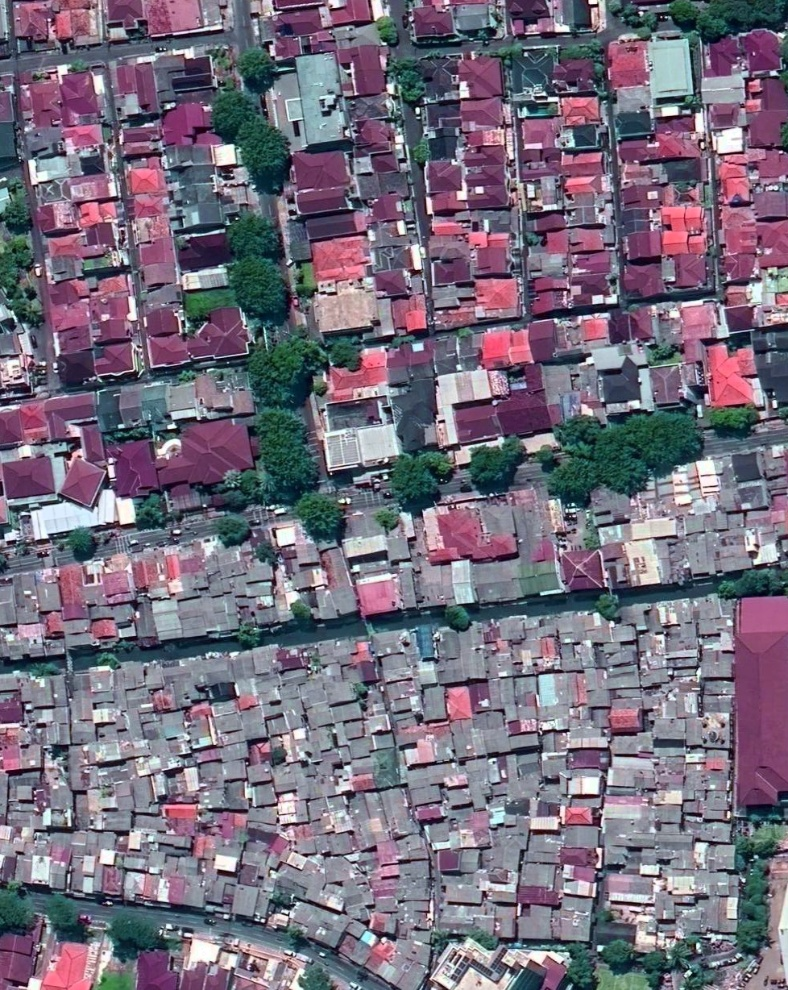building: (555, 440, 788, 606), (596, 503, 758, 592), (415, 208, 519, 331), (736, 597, 788, 807), (638, 601, 733, 694), (616, 158, 709, 244), (152, 416, 258, 490), (332, 918, 436, 990), (179, 934, 311, 990), (431, 938, 573, 990), (510, 485, 572, 595), (26, 485, 136, 541), (271, 845, 356, 912), (426, 503, 519, 564), (434, 367, 505, 445), (294, 52, 350, 148), (449, 703, 541, 761), (470, 550, 564, 606), (161, 159, 228, 237), (285, 894, 367, 956), (526, 311, 615, 366), (367, 217, 426, 296), (150, 45, 220, 110), (189, 362, 258, 426), (321, 346, 394, 405), (389, 376, 444, 454), (322, 421, 401, 473), (182, 304, 252, 362), (600, 536, 673, 591), (704, 340, 763, 408), (668, 457, 726, 517), (312, 284, 380, 335), (55, 453, 112, 513), (462, 143, 512, 211), (435, 623, 489, 684), (493, 386, 554, 440), (108, 438, 160, 500), (432, 365, 496, 415), (310, 234, 373, 284), (435, 503, 488, 562), (488, 676, 540, 736), (176, 590, 241, 638), (336, 41, 389, 99), (458, 752, 509, 811), (124, 155, 171, 219), (427, 327, 488, 376), (316, 548, 358, 619), (344, 89, 400, 142), (40, 942, 101, 990), (346, 789, 394, 850), (647, 37, 695, 98), (410, 508, 460, 566), (142, 0, 222, 36), (518, 116, 562, 180), (173, 228, 234, 274), (380, 337, 437, 386), (603, 795, 656, 847), (752, 327, 788, 403), (508, 47, 560, 98), (291, 147, 351, 191), (569, 250, 616, 305), (0, 455, 56, 501), (377, 783, 421, 840), (660, 204, 708, 256), (547, 523, 582, 594), (478, 326, 534, 370), (162, 102, 219, 145), (324, 396, 392, 432), (304, 207, 371, 243), (58, 69, 103, 122), (457, 54, 506, 100), (486, 824, 530, 875), (606, 39, 650, 89), (559, 547, 606, 593), (453, 401, 503, 444), (418, 53, 461, 103), (550, 895, 594, 943), (598, 357, 642, 405), (163, 138, 225, 172), (0, 724, 43, 773), (244, 819, 294, 861), (711, 528, 755, 574), (0, 726, 43, 773), (43, 390, 99, 426), (0, 933, 35, 990), (17, 838, 56, 888), (657, 837, 703, 879), (742, 27, 784, 73), (444, 682, 492, 722), (201, 832, 245, 875), (411, 724, 456, 766), (57, 562, 89, 621), (149, 764, 195, 805), (524, 248, 571, 288), (91, 341, 139, 379), (27, 79, 64, 128), (718, 153, 752, 206), (356, 577, 401, 617), (0, 621, 47, 659), (54, 349, 97, 390), (135, 950, 179, 990), (455, 493, 520, 520), (63, 172, 119, 203), (390, 293, 430, 336), (541, 363, 580, 407), (19, 675, 68, 710), (538, 672, 587, 707), (700, 71, 749, 106), (180, 193, 225, 231), (22, 120, 67, 158), (295, 185, 350, 216), (418, 560, 455, 606), (274, 6, 325, 39), (405, 760, 461, 790), (146, 332, 191, 369), (340, 875, 376, 921), (621, 262, 667, 298), (333, 21, 386, 52), (99, 566, 139, 607), (680, 301, 720, 342), (704, 36, 744, 77), (411, 3, 455, 40), (119, 123, 163, 160), (54, 9, 100, 44), (126, 553, 166, 593), (230, 883, 273, 920), (357, 170, 410, 200), (653, 595, 701, 628), (506, 0, 551, 35), (537, 703, 593, 731), (451, 0, 497, 34), (355, 117, 394, 157), (179, 264, 231, 294), (523, 175, 564, 213), (649, 364, 685, 407), (341, 506, 385, 541), (619, 157, 667, 189), (684, 532, 718, 577), (460, 96, 506, 129), (259, 833, 296, 874), (398, 901, 432, 945), (757, 220, 788, 268), (86, 761, 137, 790), (268, 729, 309, 765), (36, 200, 79, 234), (179, 963, 233, 990), (132, 61, 160, 113), (150, 597, 183, 641), (48, 299, 92, 332), (749, 109, 788, 146), (605, 873, 653, 903), (166, 668, 202, 708), (476, 278, 519, 311), (448, 559, 478, 606), (43, 785, 75, 829), (77, 422, 109, 466), (160, 801, 200, 836), (560, 94, 602, 127), (28, 153, 71, 185), (701, 896, 738, 933), (14, 0, 49, 39), (370, 748, 402, 790), (430, 333, 462, 375), (591, 488, 634, 519), (497, 811, 533, 848), (341, 532, 390, 559), (143, 305, 183, 338), (623, 229, 664, 261), (47, 276, 89, 307), (723, 222, 760, 257), (141, 280, 184, 310), (439, 906, 485, 934), (54, 324, 94, 356), (521, 118, 562, 149), (249, 537, 284, 573), (565, 224, 607, 254), (118, 384, 148, 426), (525, 831, 563, 864), (565, 193, 603, 226), (630, 516, 680, 541), (583, 666, 612, 709), (328, 0, 374, 27), (619, 206, 659, 237), (132, 213, 172, 244), (201, 875, 236, 910), (518, 905, 553, 940), (275, 791, 310, 826), (674, 253, 709, 288), (395, 831, 431, 865), (701, 643, 735, 679), (662, 157, 705, 185), (560, 123, 603, 151), (613, 84, 653, 114), (614, 110, 654, 140), (127, 165, 167, 195), (41, 752, 70, 793), (383, 345, 412, 386), (372, 243, 413, 272), (560, 150, 604, 177), (426, 160, 462, 193), (168, 875, 205, 907), (528, 288, 570, 316), (529, 320, 557, 362), (179, 606, 215, 638), (92, 316, 133, 344), (472, 209, 516, 235), (617, 137, 659, 164), (140, 383, 169, 422), (657, 132, 702, 157), (698, 616, 733, 648), (520, 861, 558, 890), (138, 236, 176, 265), (196, 657, 235, 685), (140, 260, 179, 288), (63, 123, 105, 149), (165, 381, 199, 413), (230, 883, 261, 918), (459, 647, 490, 682), (736, 480, 771, 511), (238, 705, 268, 741), (444, 685, 474, 721), (711, 126, 747, 156), (428, 189, 468, 216), (130, 191, 170, 218), (0, 120, 20, 174), (395, 566, 420, 609), (525, 210, 568, 235), (573, 250, 616, 275), (69, 746, 95, 787), (91, 273, 132, 299), (227, 650, 259, 683), (731, 451, 763, 484), (271, 763, 305, 794), (371, 630, 410, 657), (521, 636, 560, 663), (84, 220, 119, 250), (719, 201, 755, 230), (425, 100, 461, 129), (374, 268, 410, 297), (42, 407, 71, 443), (12, 573, 38, 613), (132, 601, 158, 641), (251, 644, 283, 676), (379, 652, 413, 682), (665, 622, 699, 652), (661, 693, 700, 719), (516, 884, 560, 907), (697, 872, 739, 896), (78, 202, 118, 227), (253, 674, 284, 706), (435, 657, 468, 687), (702, 713, 732, 746), (622, 185, 667, 207), (411, 624, 437, 662), (324, 677, 358, 706), (754, 190, 788, 219), (723, 253, 758, 281), (341, 659, 377, 686), (594, 921, 636, 944), (449, 826, 491, 849), (0, 406, 23, 448), (394, 720, 431, 746), (591, 345, 628, 371), (241, 840, 271, 872), (90, 296, 130, 320), (692, 594, 725, 623), (371, 193, 405, 221), (275, 665, 310, 692), (130, 776, 157, 811), (553, 59, 594, 82), (778, 887, 788, 980), (85, 785, 117, 814), (756, 150, 788, 179), (489, 677, 517, 710), (313, 833, 359, 853), (80, 251, 120, 274), (607, 663, 641, 690), (35, 579, 62, 613), (627, 306, 654, 340), (290, 565, 325, 591), (654, 113, 697, 134), (611, 733, 652, 755), (186, 830, 216, 860), (607, 308, 632, 344), (307, 725, 338, 754), (561, 0, 592, 29), (580, 314, 611, 343), (444, 882, 483, 905), (561, 825, 600, 848), (324, 855, 356, 883), (275, 644, 307, 672), (34, 178, 66, 206), (10, 770, 43, 797), (761, 77, 788, 110), (427, 134, 460, 161), (48, 233, 85, 257), (568, 748, 610, 769), (564, 174, 606, 195), (559, 846, 599, 868), (385, 677, 420, 702), (465, 562, 490, 597), (537, 778, 568, 806), (248, 782, 279, 810), (725, 305, 756, 333), (212, 710, 244, 737), (423, 686, 447, 722), (638, 649, 670, 676), (504, 524, 530, 557), (602, 644, 639, 667), (568, 770, 602, 795), (48, 256, 82, 281), (158, 710, 187, 739), (109, 599, 139, 627), (598, 522, 633, 546), (327, 831, 359, 857), (281, 699, 307, 731), (636, 494, 677, 514), (609, 708, 643, 732), (106, 0, 143, 22), (118, 661, 146, 690), (293, 540, 322, 568), (362, 687, 389, 717), (223, 780, 249, 811), (0, 356, 26, 387), (698, 820, 733, 843), (409, 784, 444, 807), (329, 701, 364, 724), (189, 939, 221, 964), (507, 0, 549, 19), (294, 906, 322, 934), (114, 91, 142, 119), (677, 909, 704, 938), (328, 807, 355, 836), (219, 812, 248, 839), (386, 532, 412, 562), (562, 863, 599, 884), (72, 792, 93, 829), (88, 617, 119, 642), (395, 878, 430, 900), (123, 707, 145, 742), (215, 544, 247, 568), (709, 104, 741, 128), (611, 755, 656, 772), (495, 244, 518, 277), (703, 791, 730, 819), (305, 703, 334, 729), (298, 769, 324, 798), (198, 786, 227, 812), (15, 854, 40, 884), (121, 870, 146, 900), (370, 149, 400, 174), (507, 776, 541, 798), (368, 911, 399, 935), (480, 881, 517, 901), (164, 856, 199, 877), (151, 741, 178, 768), (168, 876, 194, 904), (140, 872, 165, 901), (634, 922, 659, 951), (301, 676, 326, 705), (155, 831, 193, 850), (562, 878, 598, 898), (275, 590, 298, 621), (523, 362, 546, 393), (414, 803, 446, 825), (667, 874, 699, 896), (133, 813, 170, 832), (425, 821, 452, 847), (603, 844, 629, 871), (375, 839, 401, 866), (708, 844, 736, 869), (347, 735, 375, 760), (538, 674, 559, 707), (653, 718, 686, 739), (29, 855, 52, 885), (47, 860, 70, 890), (101, 866, 124, 896), (219, 741, 250, 763), (439, 629, 461, 660), (493, 914, 519, 940), (499, 616, 526, 641), (165, 659, 193, 683), (621, 604, 649, 628), (308, 29, 336, 53), (124, 686, 153, 709), (331, 639, 357, 664), (198, 761, 224, 786), (70, 697, 95, 723), (237, 863, 264, 887), (415, 659, 439, 686), (717, 486, 741, 513), (79, 152, 106, 176), (68, 871, 96, 894), (142, 662, 165, 690), (94, 740, 122, 763), (273, 35, 301, 58), (656, 768, 686, 789), (469, 232, 511, 247), (356, 659, 380, 685), (357, 849, 381, 875), (329, 771, 355, 795), (247, 741, 273, 765), (9, 827, 35, 851), (656, 892, 676, 923), (564, 807, 598, 825), (50, 833, 71, 862), (702, 694, 734, 713), (306, 797, 331, 821), (206, 682, 236, 702), (82, 583, 108, 606), (246, 762, 273, 784), (95, 720, 126, 739), (640, 667, 671, 686), (244, 579, 275, 598), (607, 768, 636, 788), (103, 811, 132, 831), (62, 617, 91, 637), (179, 572, 208, 592), (115, 65, 135, 94), (51, 675, 69, 707), (654, 739, 686, 757), (265, 715, 290, 738), (145, 850, 168, 875), (90, 669, 115, 692), (72, 721, 97, 744), (706, 749, 732, 771), (581, 610, 607, 632), (365, 713, 392, 734), (9, 811, 42, 828), (522, 17, 555, 34), (399, 861, 430, 879), (545, 230, 569, 253), (342, 719, 367, 741), (350, 771, 376, 792), (683, 747, 709, 768), (254, 605, 280, 626), (64, 631, 96, 648), (432, 220, 466, 236), (561, 644, 581, 671), (246, 562, 273, 582), (211, 698, 239, 717), (680, 154, 703, 177), (0, 700, 23, 723), (438, 849, 460, 873), (460, 849, 482, 873), (352, 639, 374, 663), (140, 719, 162, 743), (0, 332, 22, 356), (508, 717, 539, 734), (260, 699, 285, 720), (222, 760, 247, 781), (0, 88, 15, 123), (373, 894, 399, 914), (284, 96, 304, 122), (442, 770, 469, 789), (183, 766, 202, 793), (705, 771, 732, 790), (703, 679, 735, 695), (0, 855, 17, 885), (248, 807, 278, 824), (217, 949, 240, 971), (88, 605, 124, 619), (274, 526, 298, 547), (685, 765, 705, 790), (213, 854, 239, 873), (463, 811, 490, 829), (164, 553, 182, 580), (47, 723, 70, 744), (686, 717, 703, 745), (408, 926, 433, 945), (293, 836, 318, 855), (417, 738, 436, 763), (372, 880, 398, 898), (186, 703, 212, 721), (611, 624, 637, 642), (199, 811, 221, 832), (69, 674, 91, 695), (326, 793, 349, 813), (654, 790, 684, 805), (389, 696, 414, 714), (194, 747, 222, 763), (153, 690, 174, 711), (537, 616, 558, 637), (654, 476, 675, 497), (556, 613, 576, 635), (44, 611, 63, 634), (233, 978, 268, 990), (351, 757, 375, 774), (587, 690, 611, 707), (280, 698, 305, 714), (98, 847, 118, 867), (279, 683, 301, 701), (236, 678, 256, 697), (0, 673, 19, 693), (531, 817, 560, 830), (156, 878, 171, 903), (93, 708, 118, 723), (237, 694, 259, 711), (116, 623, 138, 640), (611, 698, 644, 709), (166, 740, 190, 755), (373, 732, 394, 749), (209, 578, 231, 594), (658, 822, 683, 836), (377, 864, 400, 879), (684, 692, 699, 715), (667, 657, 698, 668), (93, 864, 105, 892), (123, 855, 147, 869), (190, 735, 214, 749), (468, 231, 489, 247), (320, 750, 342, 765), (401, 901, 430, 912), (333, 979, 361, 990), (71, 832, 90, 848), (116, 796, 135, 812), (517, 692, 537, 707), (639, 864, 662, 877), (33, 709, 54, 723), (16, 786, 34, 802), (0, 186, 11, 212), (490, 808, 506, 825), (119, 740, 135, 757), (52, 707, 69, 723), (684, 800, 702, 814), (86, 832, 98, 853), (675, 709, 699, 719), (128, 832, 142, 849), (323, 663, 342, 675), (466, 129, 482, 143), (91, 692, 113, 702), (725, 723, 733, 748), (567, 743, 604, 748), (551, 409, 563, 424), (548, 500, 558, 517), (582, 403, 595, 416), (293, 728, 307, 740), (651, 607, 664, 618), (493, 562, 507, 572), (412, 280, 422, 290), (198, 886, 204, 902), (546, 675, 560, 680), (648, 775, 654, 786)
tree: (232, 339, 310, 419), (626, 403, 706, 479), (458, 424, 532, 499), (584, 435, 658, 505), (385, 442, 461, 510), (284, 477, 354, 547), (229, 113, 298, 182), (201, 81, 265, 144), (255, 435, 323, 488), (233, 257, 292, 318), (545, 447, 601, 509), (230, 37, 287, 95), (386, 50, 434, 109), (229, 214, 284, 261), (106, 913, 170, 953), (714, 567, 785, 603), (182, 279, 240, 322), (255, 402, 308, 449), (273, 334, 326, 380), (710, 1, 788, 31), (557, 940, 603, 990), (555, 413, 603, 458), (606, 0, 659, 39), (238, 464, 286, 505), (0, 238, 36, 290), (708, 399, 759, 435), (0, 881, 35, 933), (44, 896, 86, 937), (4, 290, 45, 331), (637, 944, 674, 989), (732, 917, 773, 957), (744, 858, 771, 918), (214, 511, 254, 551), (328, 333, 366, 372), (589, 589, 627, 628), (67, 524, 103, 563), (693, 8, 732, 44), (599, 939, 638, 973), (440, 601, 476, 637), (132, 494, 163, 530), (375, 13, 404, 50), (665, 937, 697, 969), (4, 197, 31, 233), (651, 338, 681, 366), (668, 0, 700, 26), (683, 963, 713, 990), (287, 596, 314, 623), (563, 40, 602, 57), (237, 622, 262, 647), (750, 838, 778, 860), (735, 837, 753, 870), (304, 965, 332, 986), (293, 279, 318, 302), (31, 658, 58, 678), (411, 138, 430, 166), (493, 42, 526, 58), (473, 929, 500, 947), (97, 651, 119, 673), (378, 507, 398, 531), (21, 280, 42, 302), (682, 93, 700, 112), (539, 442, 557, 459), (184, 316, 200, 334), (71, 61, 90, 76), (179, 366, 195, 383), (775, 405, 788, 420), (355, 681, 368, 696)
